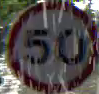Speed limit: (5, 0, 98, 92)
